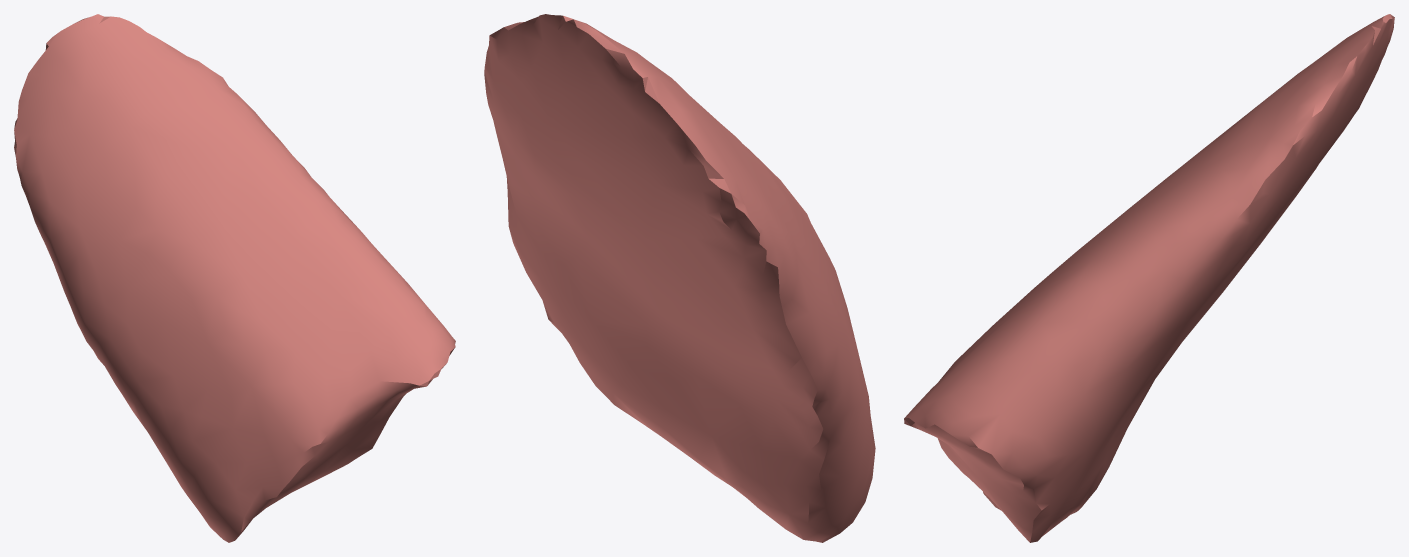
The model's file is fma38557-n_mm1816m.glb.
The picture shows the model from 3 angles, left to right: view 1: azimuth 30°, elevation 25°; view 2: azimuth 150°, elevation 25°; view 3: azimuth 270°, elevation 25°; orthographic projection. The views are drawn at different scales.
Visible parts, largest first — view 1: FMA38557-N_MM1816M; view 2: FMA38557-N_MM1816M; view 3: FMA38557-N_MM1816M.
Part boxes in pixels (x1,y1,x2,y2): FMA38557-N_MM1816M: (14, 14, 455, 542); FMA38557-N_MM1816M: (484, 14, 875, 542); FMA38557-N_MM1816M: (904, 14, 1394, 542).
Size of the model in its own units: 0.00966 by 0.0132 by 0.0115.
